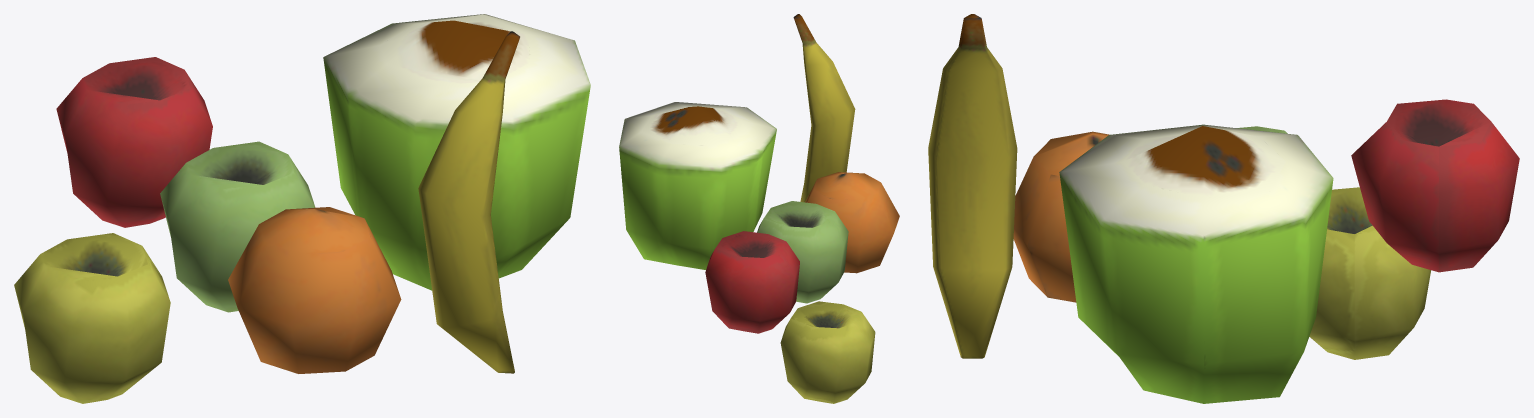
File: Food 1.2.fbx
3 renders of one model, left to right at view 1: azimuth 30°, elevation 25°; view 2: azimuth 150°, elevation 25°; view 3: azimuth 270°, elevation 25°, orthographic. The views are drawn at different scales.
Parts seen in each view (by area): view 1: Coconut, Orange, Apple Yellow, Apple Red, Banana, Apple Green; view 2: Coconut, Apple Red, Apple Yellow, Banana, Apple Green, Orange; view 3: Coconut, Banana, Apple Red, Apple Yellow, Orange.
Boxes of the visible parts, x1,y1,x2,y2 form: Coconut: (323,14,590,290); Orange: (228,207,401,373); Apple Yellow: (14,233,170,403); Apple Red: (56,57,212,227); Banana: (418,31,519,373); Apple Green: (160,141,315,312); Coconut: (619,102,776,269); Apple Red: (705,231,799,333); Apple Yellow: (780,301,875,403); Banana: (793,14,855,202); Apple Green: (757,201,848,303); Orange: (805,172,899,273); Coconut: (1059,124,1333,403); Banana: (928,14,1017,358); Apple Red: (1351,99,1519,272); Apple Yellow: (1309,187,1430,359); Orange: (1013,131,1109,302).
Size of the model in its own units: 123 by 106 by 128.
